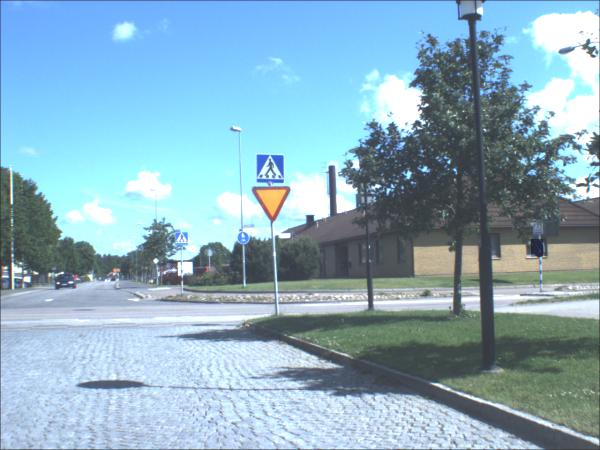GIVE_WAY: (252, 187, 292, 229)
PASS_RIGHT_SIDE: (532, 240, 545, 259)
PEDESTRIAN_CROSSING: (259, 156, 286, 185), (534, 221, 545, 237), (177, 234, 190, 247)
PRIORITY_ROAD: (155, 258, 163, 267)
